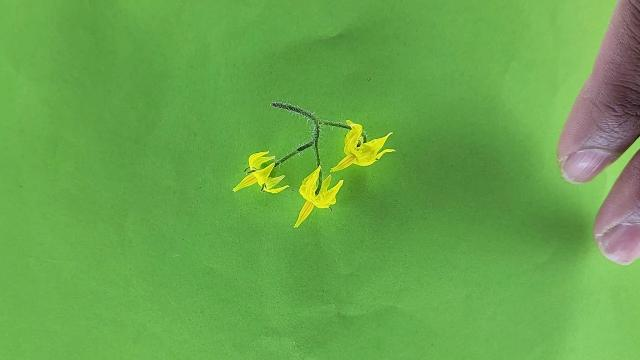Anthesis: (331, 120, 397, 174), (293, 163, 344, 228), (231, 152, 290, 195)
